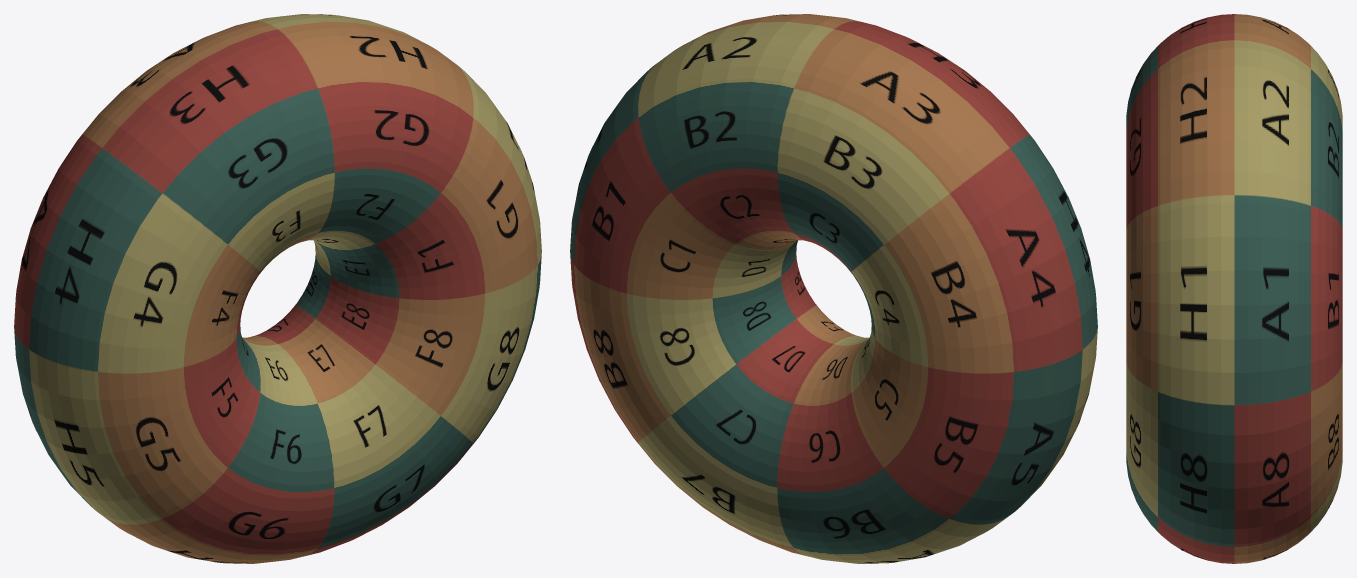
The model's file is texture_torus_R5_r25.glb.
3 views of the same model, side by side, from view 1: azimuth 30°, elevation 25°; view 2: azimuth 150°, elevation 25°; view 3: azimuth 270°, elevation 25° (orthographic). The views are drawn at different scales.
Visible parts, largest first — view 1: world; view 2: world; view 3: world.
Boxes of the visible parts, left/top/right/bottom form: world: left=14, top=14, right=541, bottom=563; world: left=570, top=14, right=1097, bottom=563; world: left=1126, top=14, right=1342, bottom=563.
Bounding box in the file's own units: 22 × 21.96 × 8.65.
1 material, 1 textured.
